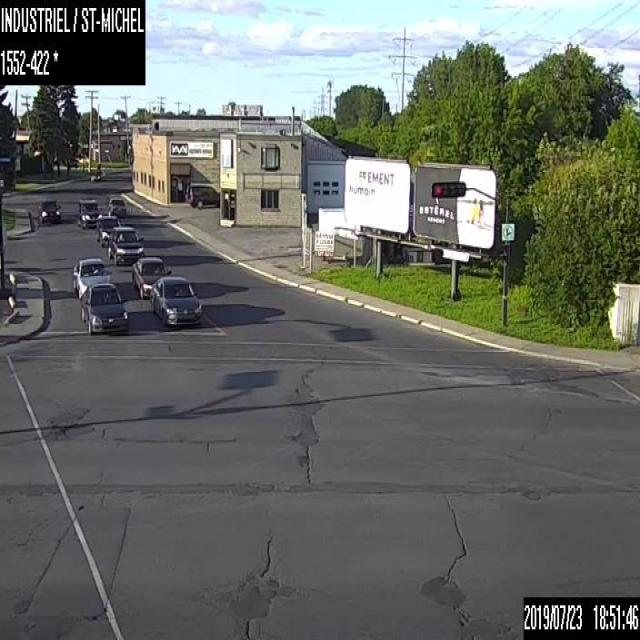vehicle: (150, 275, 202, 327), (80, 282, 128, 334), (72, 255, 112, 299), (130, 256, 171, 298), (106, 226, 144, 266), (95, 214, 120, 247), (186, 184, 218, 208), (78, 199, 102, 229), (38, 198, 61, 222), (107, 196, 125, 217), (91, 168, 103, 180)
